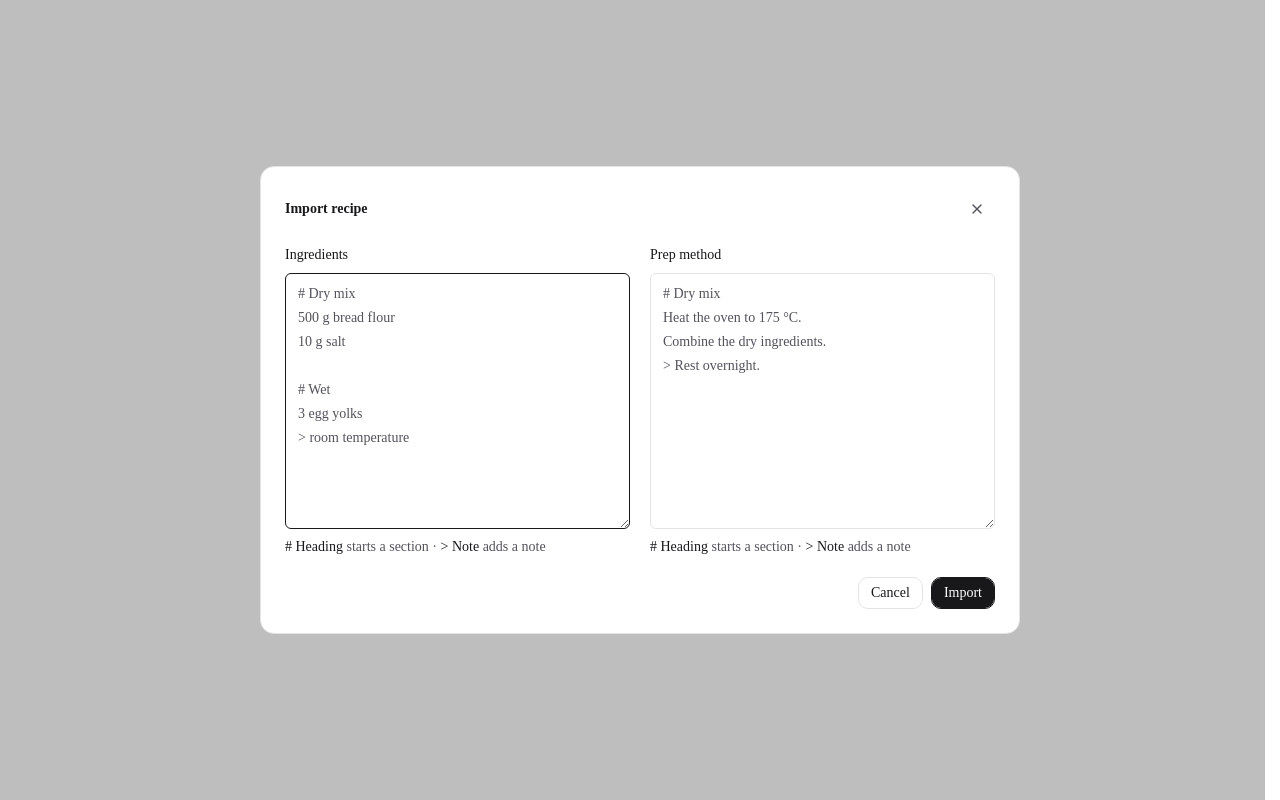
the import dialog's Import button › asks for something to import instead of applying
Click the button "Import" at coordinates (963, 593), box [931, 577, 995, 609]
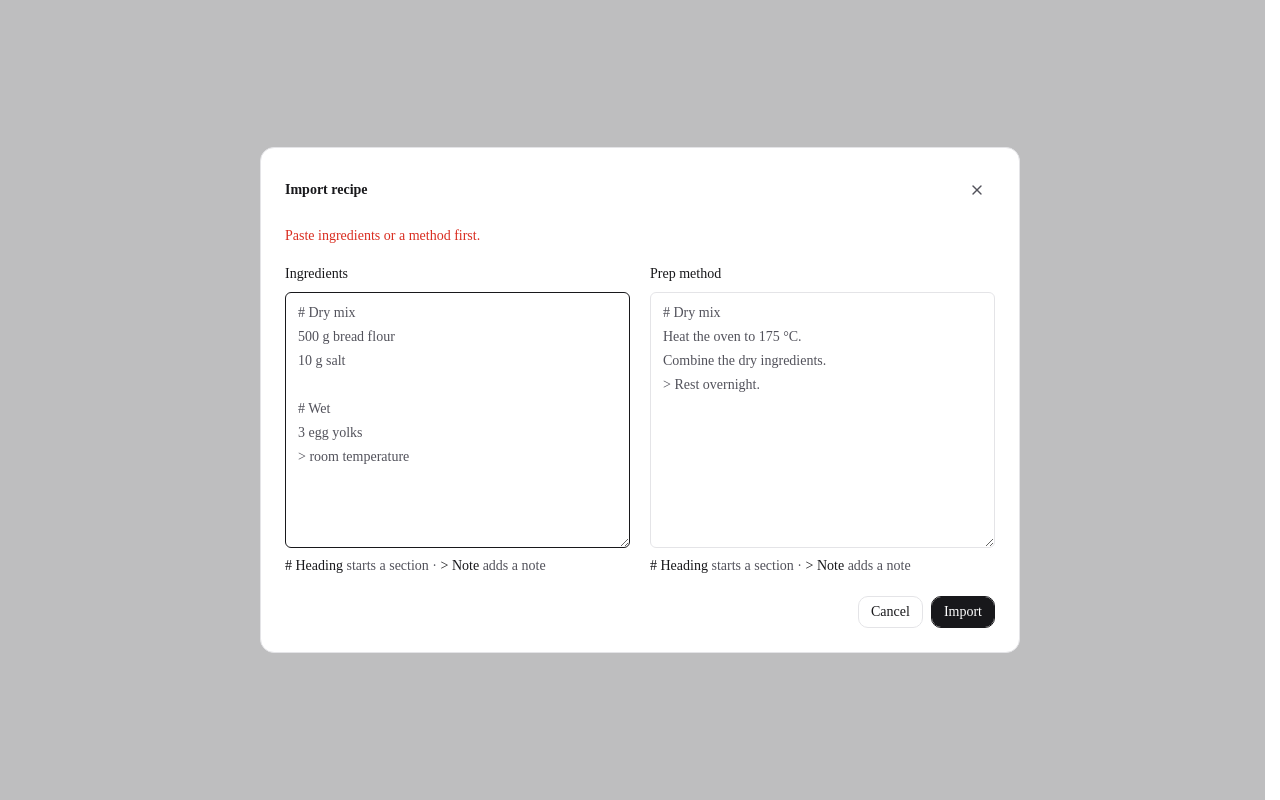
Check: the message reads "Paste ingredients or a method first.", box [285, 228, 480, 243]
